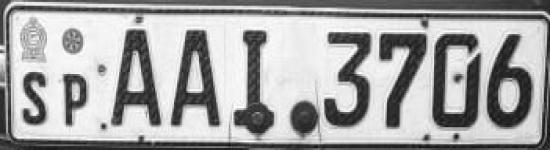0: (428, 25, 484, 139)
3: (316, 28, 378, 131)
6: (485, 28, 538, 137)
7: (376, 25, 429, 134)
A: (164, 20, 226, 133), (104, 21, 164, 136)
I: (226, 21, 282, 134)
P: (56, 68, 91, 134)
S: (14, 66, 55, 130)
